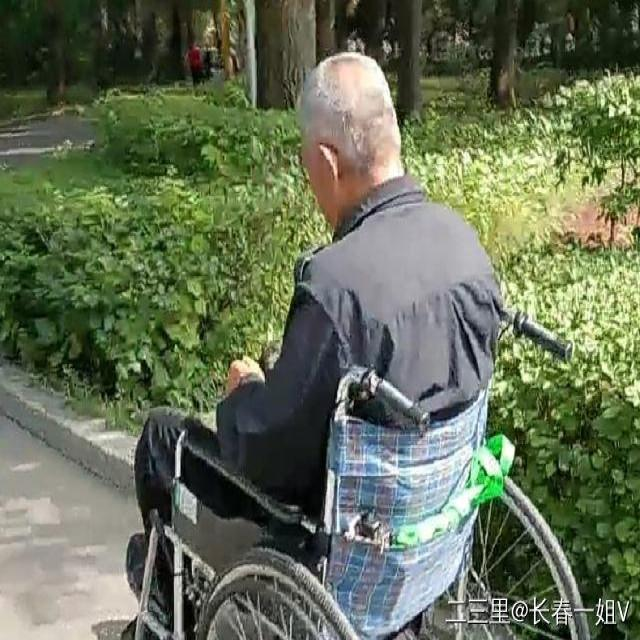wheelchairs: (89, 263, 594, 640)
